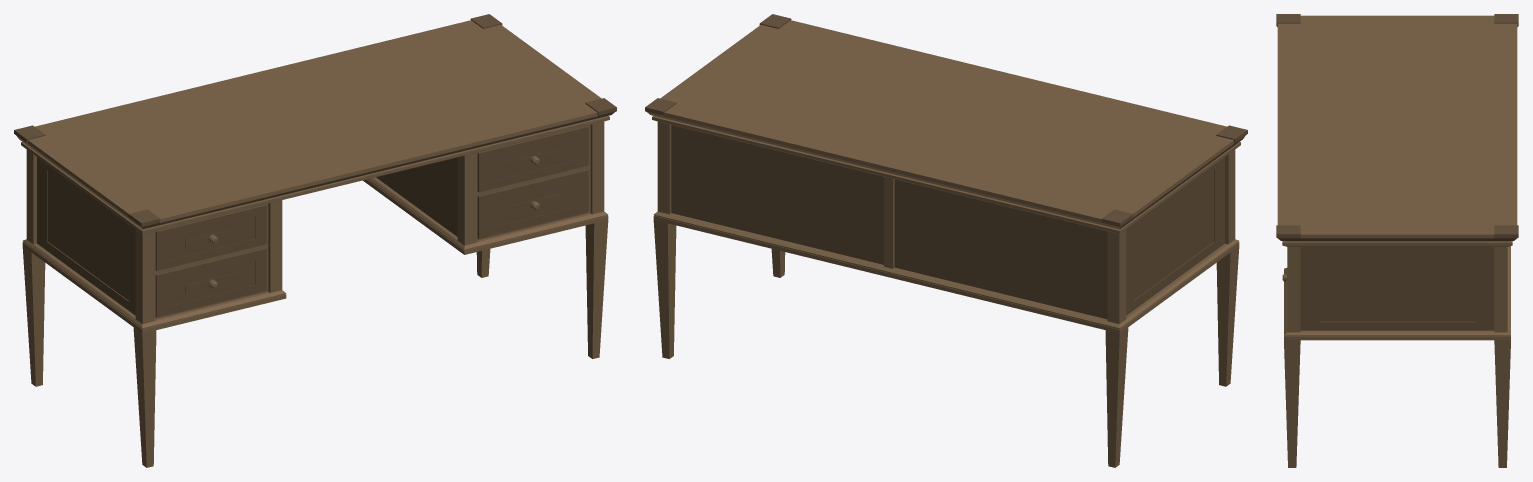
The model's file is Desk.glb.
3 renders of one model, left to right at view 1: azimuth 30°, elevation 25°; view 2: azimuth 150°, elevation 25°; view 3: azimuth 270°, elevation 25°, orthographic. The views are drawn at different scales.
Parts seen in each view (by area): view 1: Desk; view 2: Desk; view 3: Desk.
Boxes of the visible parts, <box> form: Desk: <box>14,14,616,467</box>; Desk: <box>645,14,1247,467</box>; Desk: <box>1276,14,1518,467</box>.
Bounding box in the file's own units: 1.21 × 0.6135 × 0.563.
2 materials, 2 textured.
